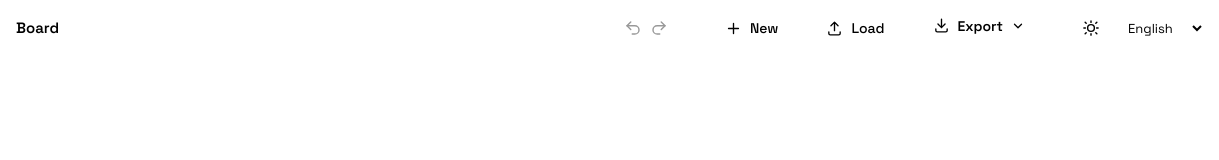
Test: TopBar › export choice › clicking Export again hides the choices
Click the button "Export".
click(979, 26)  # box [916,17,1041,35]
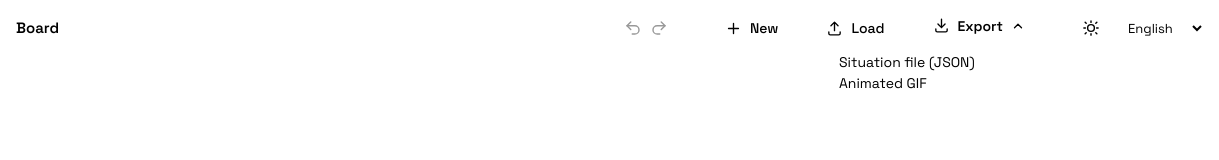
Click the button "Export".
click(979, 26)  # box [916,17,1041,35]
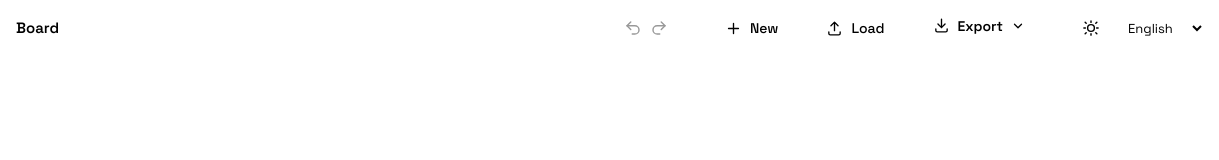
Expected: the button "Export" is collapsed, [916,17,1041,35]
